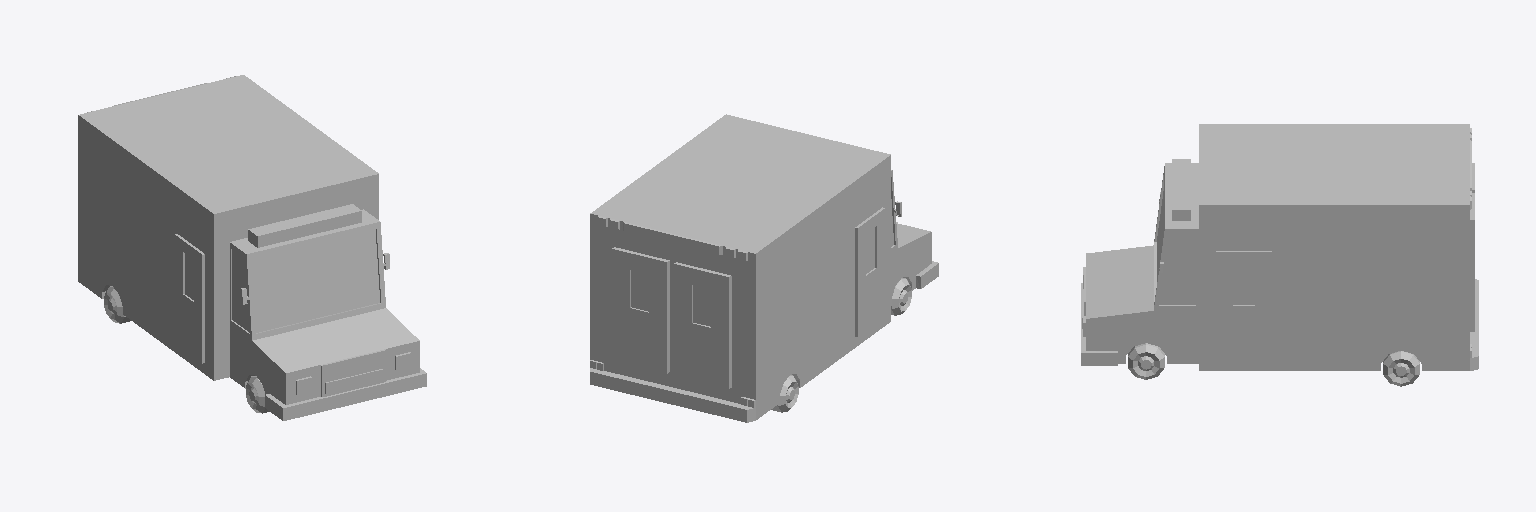
Rendered from Ambulance.obj.
3 views of the same model, side by side, from view 1: azimuth 30°, elevation 25°; view 2: azimuth 150°, elevation 25°; view 3: azimuth 270°, elevation 25° (orthographic).
Parts seen in each view (by area): view 1: FrontWheels_Cylinder.002; view 2: FrontWheels_Cylinder.002; view 3: FrontWheels_Cylinder.002.
Part boxes in pixels (x1,y1,x2,y2): FrontWheels_Cylinder.002: (78,75,426,420); FrontWheels_Cylinder.002: (590,114,938,422); FrontWheels_Cylinder.002: (1081,124,1478,386).
Bounding box in the file's own units: 2.84 × 2.91 × 5.72.